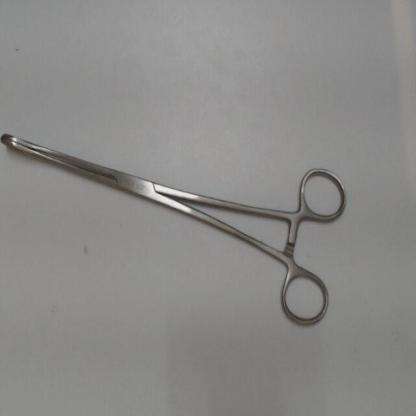Sponge Forceps: (1, 127, 354, 338)
